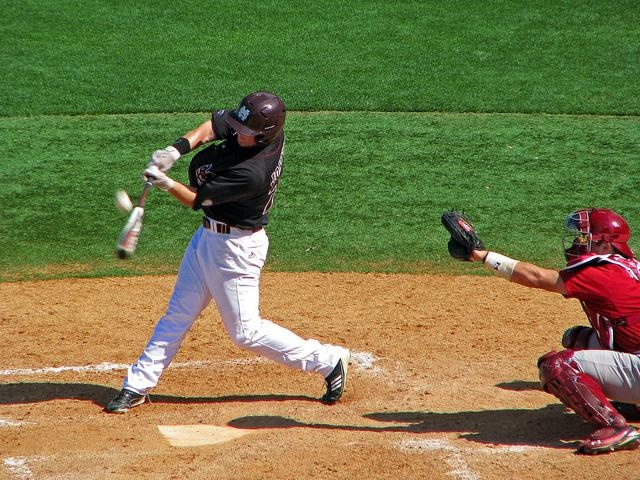person: (95, 92, 352, 423), (433, 188, 640, 456)
